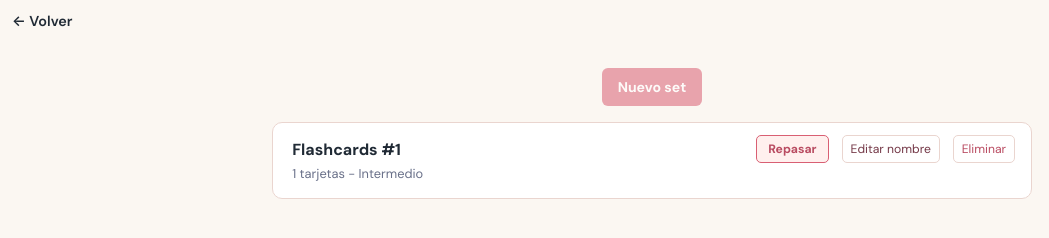
FlashcardsPage › permite renombrar un set guardado
Click the button "Editar nombre" at (891, 149), box 842,135 -> 940,163
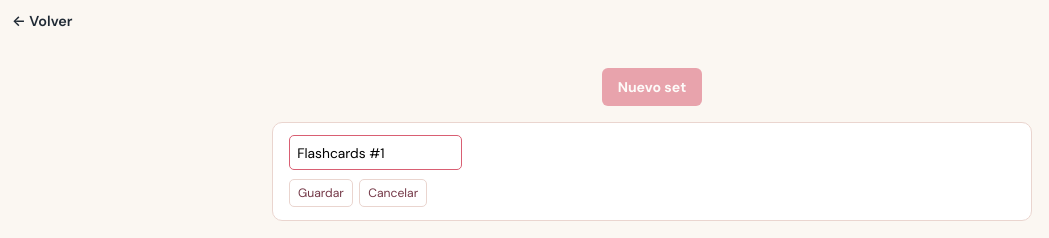
Replace the text in the field named "Nombre de Flashcards #1" with "Unidad 1" at (376, 153), box 289,135 -> 462,170
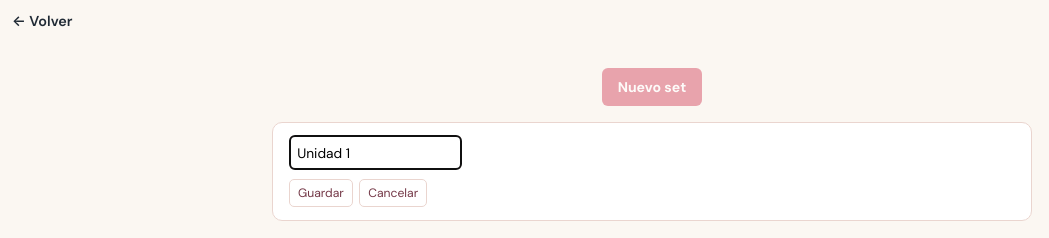
Click the button "Guardar" at (321, 193), box 289,179 -> 353,207
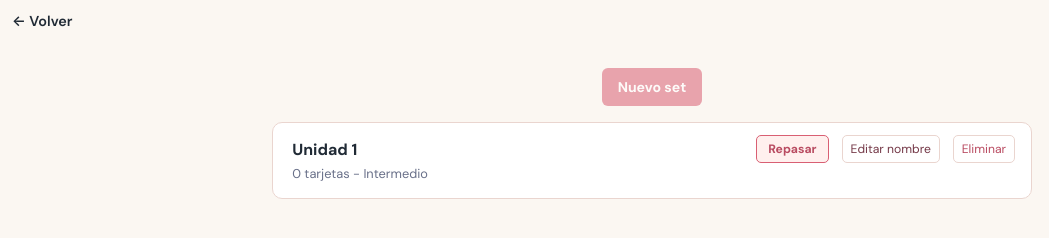
Now the text "Unidad 1" is shown, box 292,139 -> 357,160
